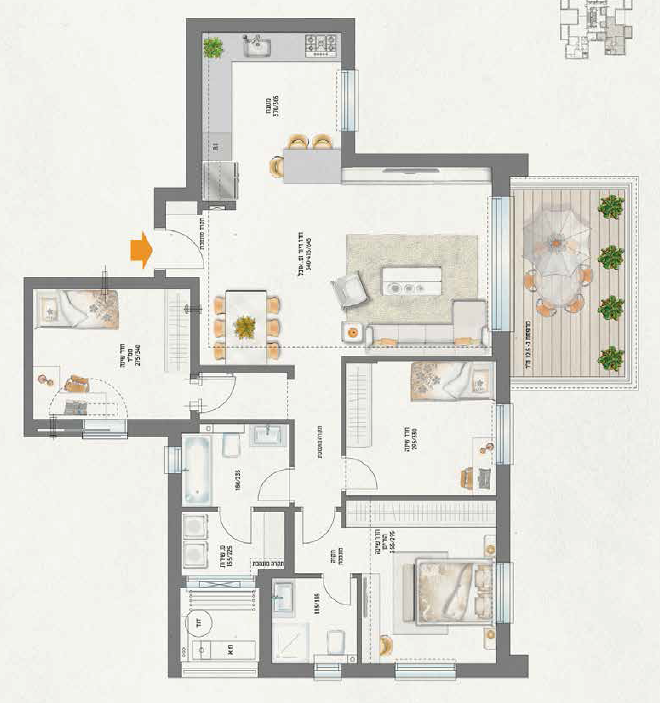door: (168, 228, 207, 272), (203, 373, 239, 413), (251, 467, 287, 507), (346, 453, 380, 494), (217, 513, 258, 545), (296, 514, 337, 546), (322, 578, 357, 610)
wall: (185, 18, 355, 36), (341, 154, 528, 169), (186, 19, 201, 200), (168, 481, 181, 677), (25, 277, 199, 290), (25, 277, 33, 437), (457, 663, 529, 676), (257, 663, 313, 679)
window: (492, 196, 512, 330), (495, 404, 514, 464), (495, 563, 514, 623), (394, 663, 456, 679), (340, 70, 355, 132), (83, 418, 128, 437), (313, 662, 341, 681), (167, 446, 182, 473)
